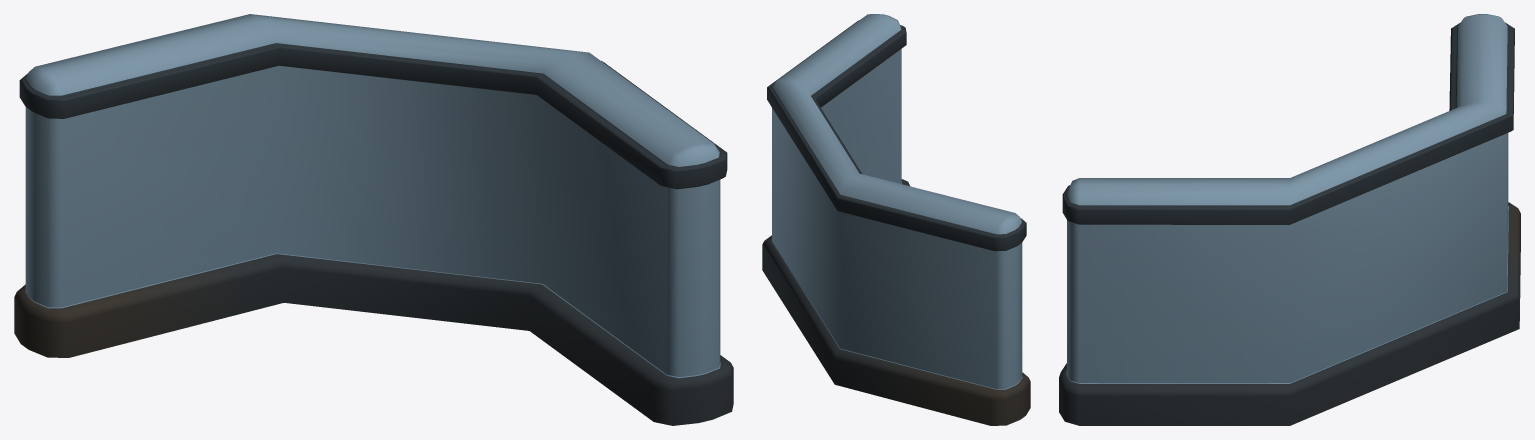
File: Env1_WallRounded.fbx
3 renders of one model, left to right at view 1: azimuth 30°, elevation 25°; view 2: azimuth 150°, elevation 25°; view 3: azimuth 270°, elevation 25°, orthographic. The views are drawn at different scales.
Visible parts, largest first — view 1: Env1_Wall; view 2: Env1_Wall; view 3: Env1_Wall.
Boxes of the visible parts, box(x1,y1,x2,y2) form: Env1_Wall: box(14, 14, 733, 425); Env1_Wall: box(762, 14, 1030, 425); Env1_Wall: box(1059, 14, 1520, 425).
Bounding box in the file's own units: 359 × 198 × 360.
